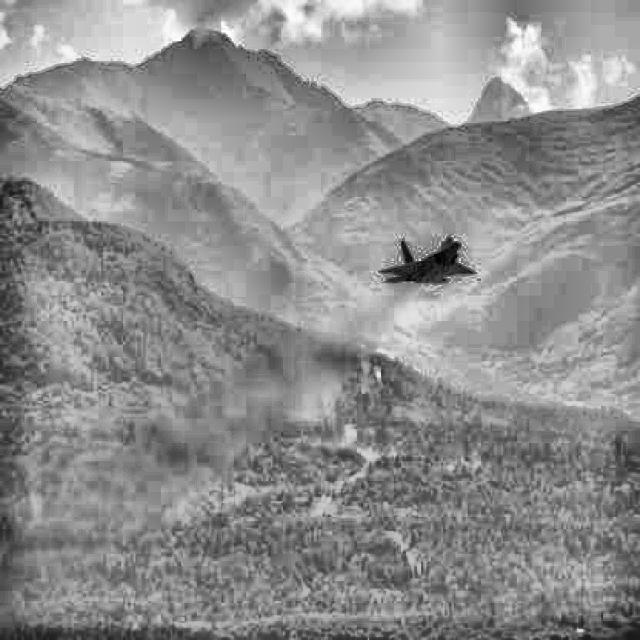F22: (378, 236, 477, 284)
